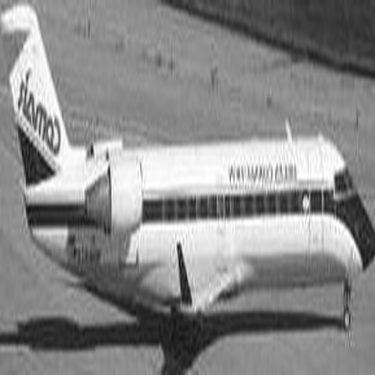airplane: (4, 2, 374, 373)
